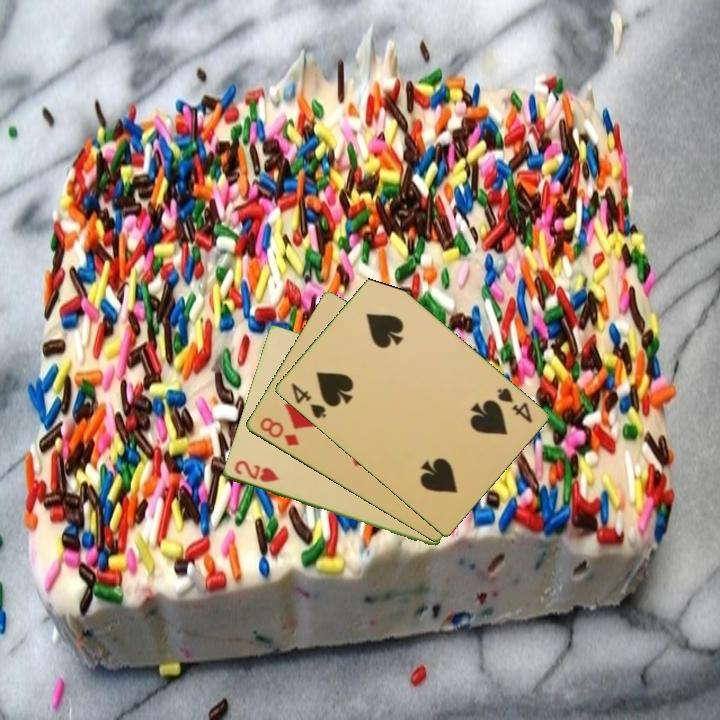2h: (230, 457, 282, 486)
4s: (287, 379, 329, 421), (493, 384, 535, 426)
8d: (256, 414, 302, 449)
